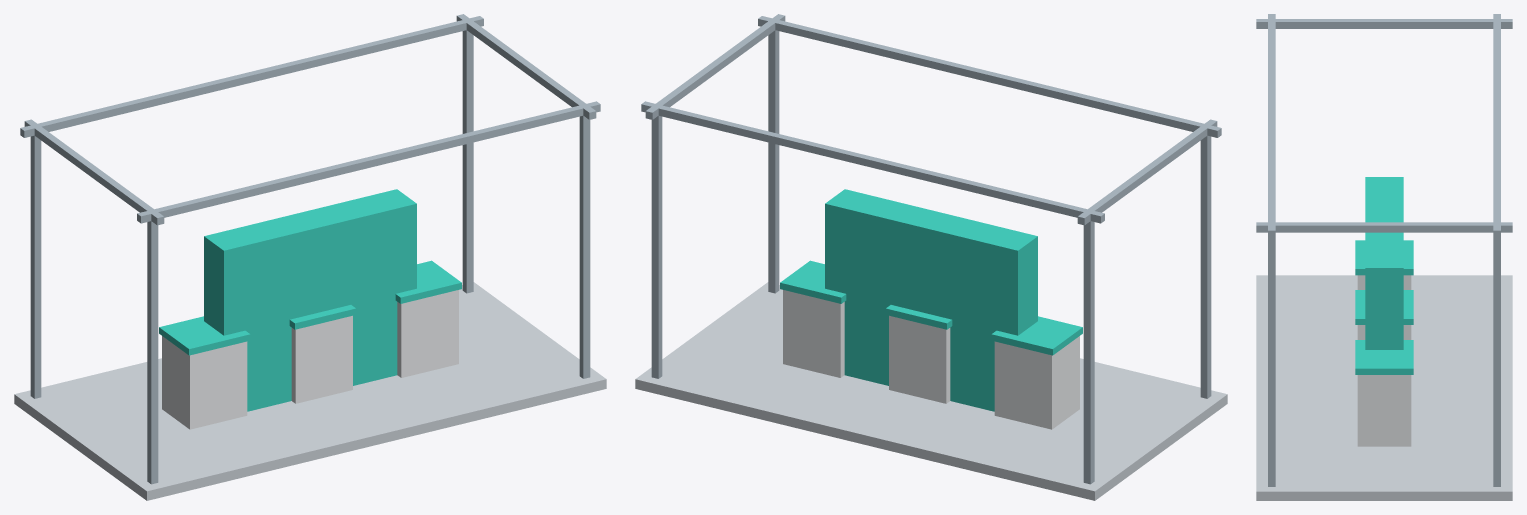
3 views of the same model, side by side, from view 1: azimuth 30°, elevation 25°; view 2: azimuth 150°, elevation 25°; view 3: azimuth 270°, elevation 25° (orthographic). The views are drawn at different scales.
Parts seen in each view (by area): view 1: Exhibition Booth Concept; view 2: Exhibition Booth Concept; view 3: Exhibition Booth Concept.
Boxes of the visible parts, x1,y1,x2,y2 form: Exhibition Booth Concept: (14, 14, 606, 500); Exhibition Booth Concept: (635, 14, 1227, 500); Exhibition Booth Concept: (1256, 14, 1512, 500).
Size of the model in its own units: 6 by 3.49 by 3.
